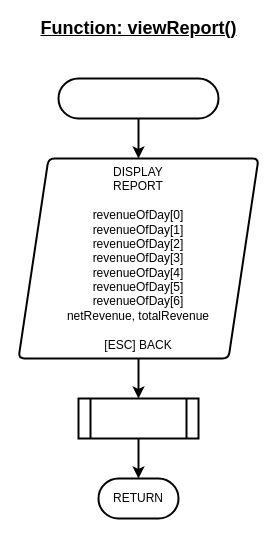
The diagram is 276 pixels wide and 536 high, and some of its shapes have lost their labels. The box of each missing label's shape, as (x1, y1, x2, y2) in pixels:
viewReport(): (57, 77, 219, 119)
waitEsc(): (77, 397, 199, 439)
